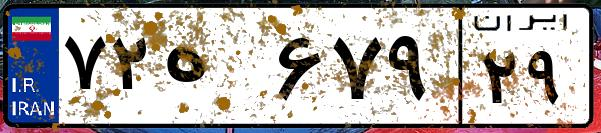2: (475, 38, 525, 113), (110, 28, 158, 98)
6: (270, 28, 330, 110)
7: (330, 28, 385, 110), (57, 26, 110, 100)
9: (385, 28, 445, 110), (525, 38, 570, 115)
ه: (158, 20, 270, 120)
